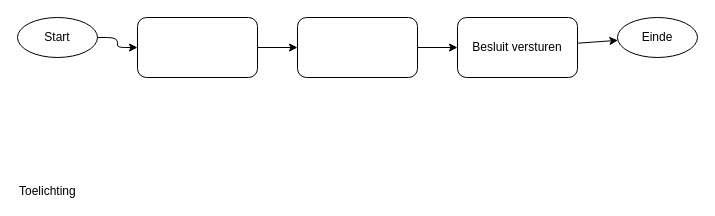
Image size: 715x216. Some labels were removed from this diagram. Here are the shapes that lost their labels. From the top down, the box of each, then its label:
(136, 16, 258, 78): Aanvraag ontvangen
(296, 16, 418, 78): Aanvraag beoordelen
